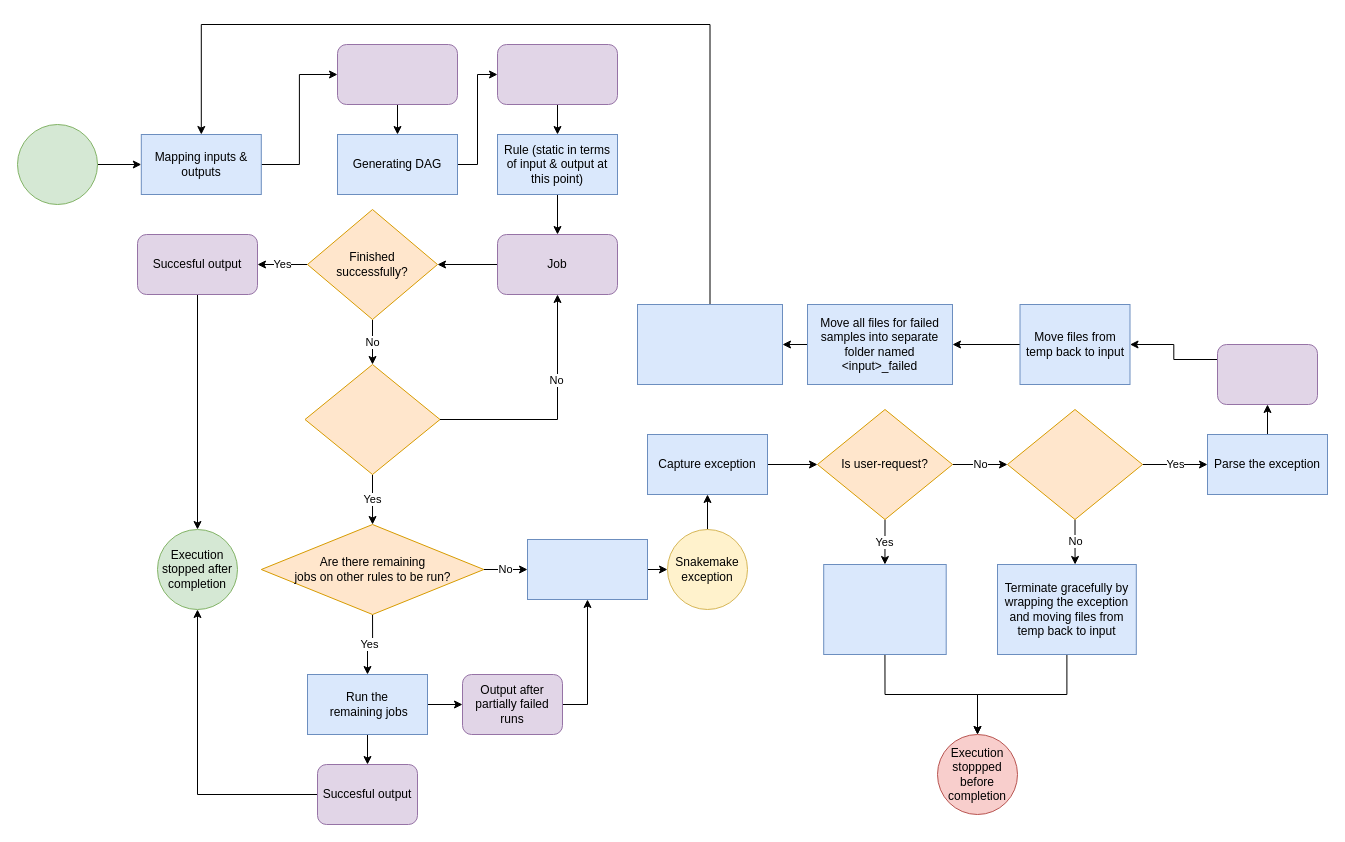
The diagram is 1345 pixels wide and 842 high, and some of its shapes have lost their labels. Here are the shapes that lost their labels. From the top down, the centre of each, then its label:
At (397,74): "Config.yaml".
At (557,74): "Snakemake DAG".
At (57,164): "Entry point".
At (709,344): "Rerun the script on input folder without failed samples".
At (1267,374): "List of IDs for failed samples".
At (372,419): "Is re-run counter exceeded the limit?".
At (1074,464): "Is out-of-jobs?".
At (587,569): "Aggregate list of failed jobs".
At (884,609): "Terminate gracefully and move files from temp back to input".
